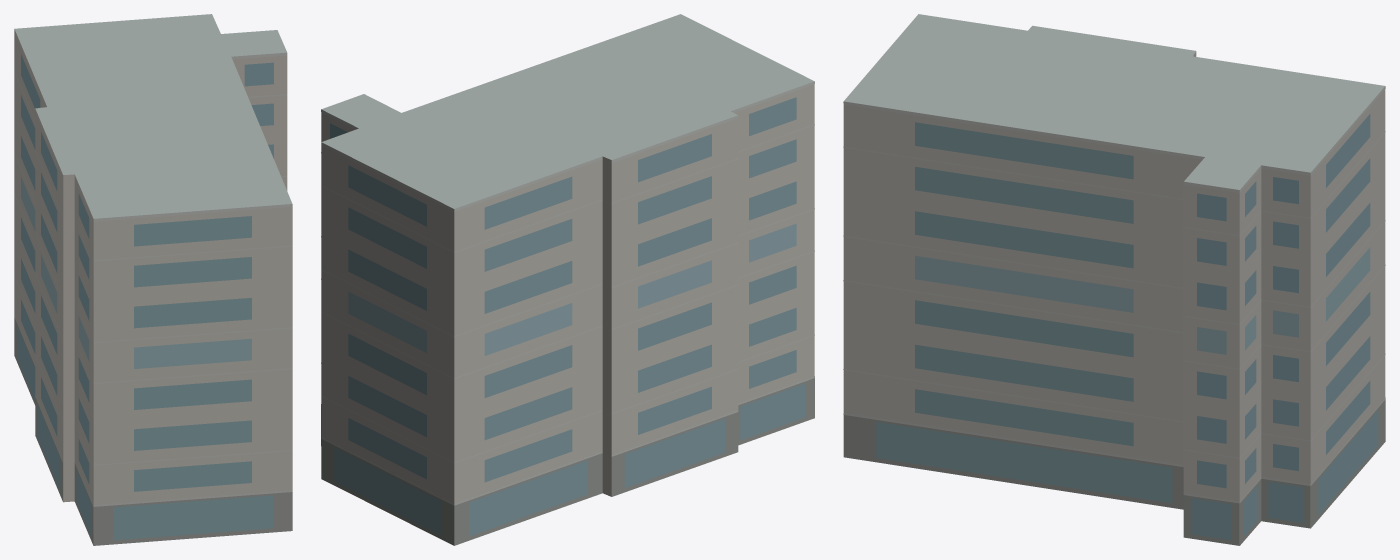
The model's file is survey-upis-32514578.glb.
3 views of the same model, side by side, from view 1: azimuth 30°, elevation 25°; view 2: azimuth 150°, elevation 25°; view 3: azimuth 270°, elevation 25° (orthographic). The views are drawn at different scales.
Visible parts, largest first — view 1: survey-upis-32514578.tmp; view 2: survey-upis-32514578.tmp; view 3: survey-upis-32514578.tmp.
Part boxes in pixels (bbox=[...]): survey-upis-32514578.tmp: bbox=[14, 14, 292, 545]; survey-upis-32514578.tmp: bbox=[321, 14, 814, 545]; survey-upis-32514578.tmp: bbox=[843, 14, 1385, 545].
Size of the model in its own units: 30.69 by 28.9 by 39.91.
